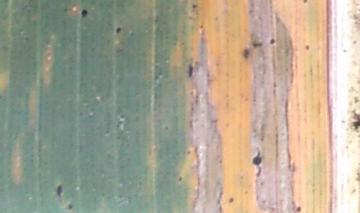tarspot: (250, 144, 263, 178), (185, 59, 196, 81), (350, 110, 360, 132), (112, 22, 125, 37), (54, 181, 64, 200), (242, 46, 251, 62), (79, 7, 90, 20), (268, 35, 277, 47), (189, 3, 200, 11), (175, 173, 183, 184), (227, 195, 236, 204), (304, 42, 311, 52), (66, 203, 74, 211), (295, 205, 303, 213), (185, 147, 192, 156), (164, 124, 171, 133), (300, 1, 309, 5)
